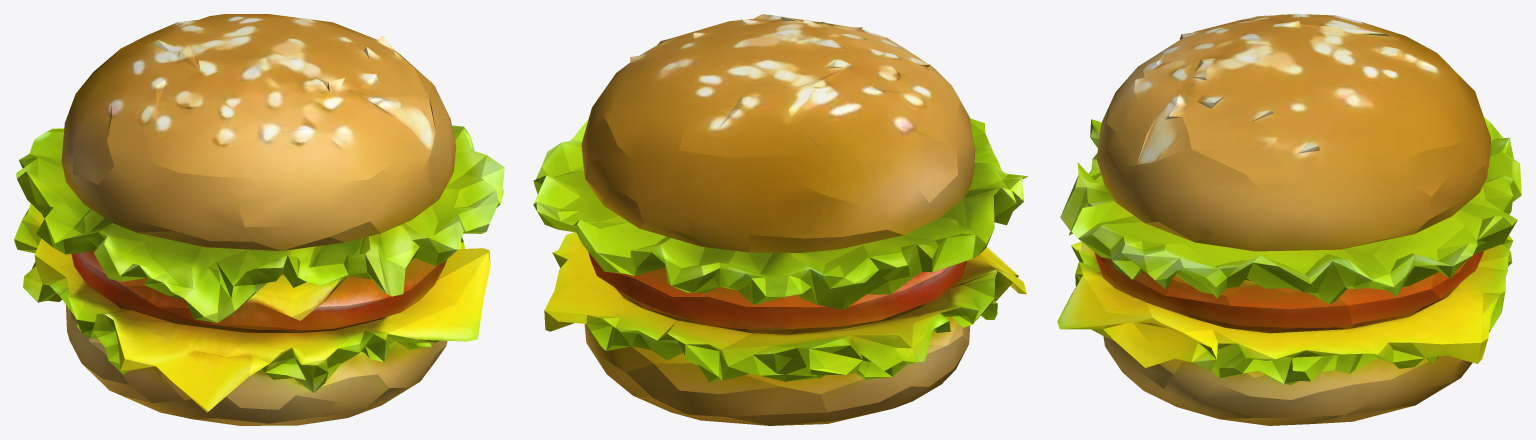
File: burger.glb
3 renders of one model, left to right at view 1: azimuth 30°, elevation 25°; view 2: azimuth 150°, elevation 25°; view 3: azimuth 270°, elevation 25°, orthographic.
Parts seen in each view (by area): view 1: model; view 2: model; view 3: model.
Boxes of the visible parts, x1=… form: model: x1=14, y1=14, x2=504, y2=425; model: x1=533, y1=14, x2=1027, y2=425; model: x1=1057, y1=14, x2=1521, y2=425.
Bounding box in the file's own units: 1.9 × 1.42 × 1.87.
1 material, 1 textured.
